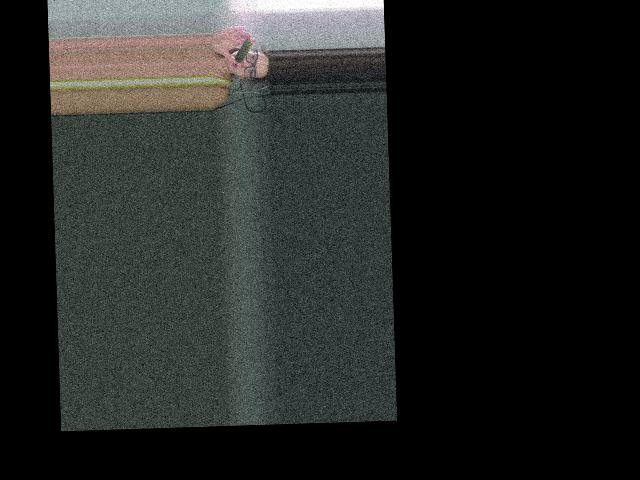cucumber: (234, 40, 253, 63)
